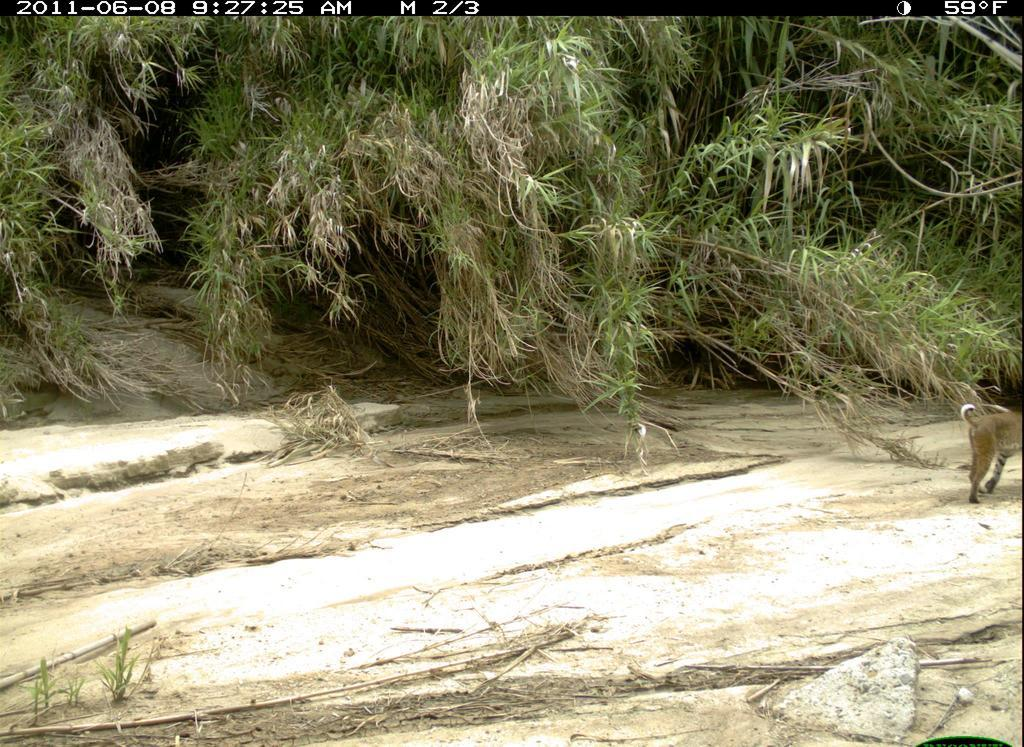bobcat: (944, 387, 1023, 502)
